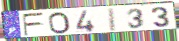3: (150, 6, 171, 28), (125, 8, 145, 30)
4: (74, 10, 96, 33)
F: (21, 11, 45, 37)
I: (109, 7, 118, 33)
O: (48, 11, 72, 35)
